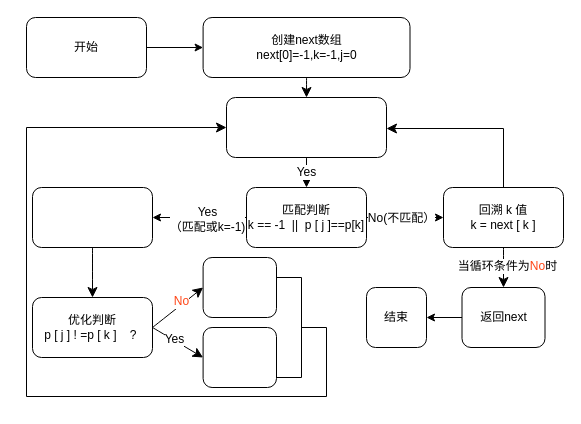
The diagram is 581 pixels wide and 424 high, and some of its shapes have lost their labels. The centre of each missing label's shape, as x and y in pixels:
j++ k++: (x=92, y=217)
next [ j ] =k: (x=239, y=357)
next [ j ] =next [ k ]: (x=239, y=287)
循环条件判断 j<pattern.length-1: (x=306, y=127)
